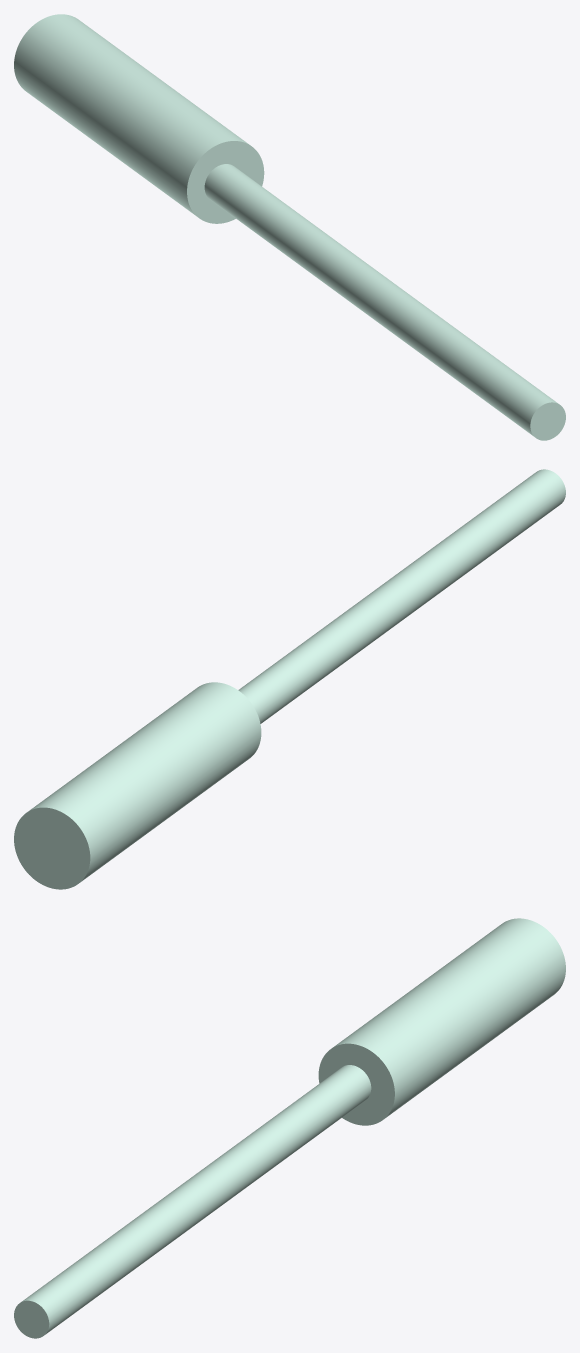
3 views of the same model, one above another, from view 1: azimuth 30°, elevation 25°; view 2: azimuth 150°, elevation 25°; view 3: azimuth 330°, elevation 25° (orthographic).
Parts seen in each view (by area): view 1: Renderer Node; view 2: Renderer Node; view 3: Renderer Node.
Part boxes in pixels (x1,y1,x2,y2): Renderer Node: [14, 14, 565, 440]; Renderer Node: [14, 469, 565, 889]; Renderer Node: [14, 918, 565, 1338].
Bounding box in the file's own units: 0.1026 × 0.1026 × 1.15.
